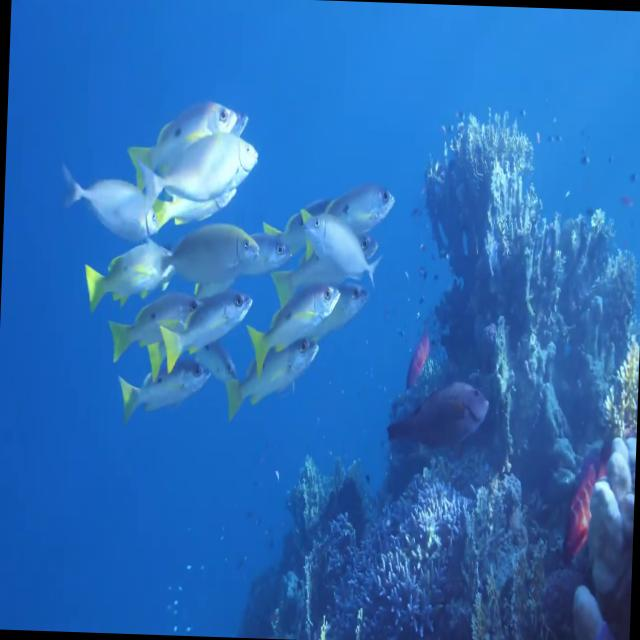fish: (128, 101, 240, 191), (141, 137, 259, 221), (245, 280, 345, 376), (162, 286, 256, 378), (155, 218, 258, 297), (64, 172, 174, 241), (81, 236, 172, 318), (300, 208, 382, 292), (121, 353, 207, 427)
